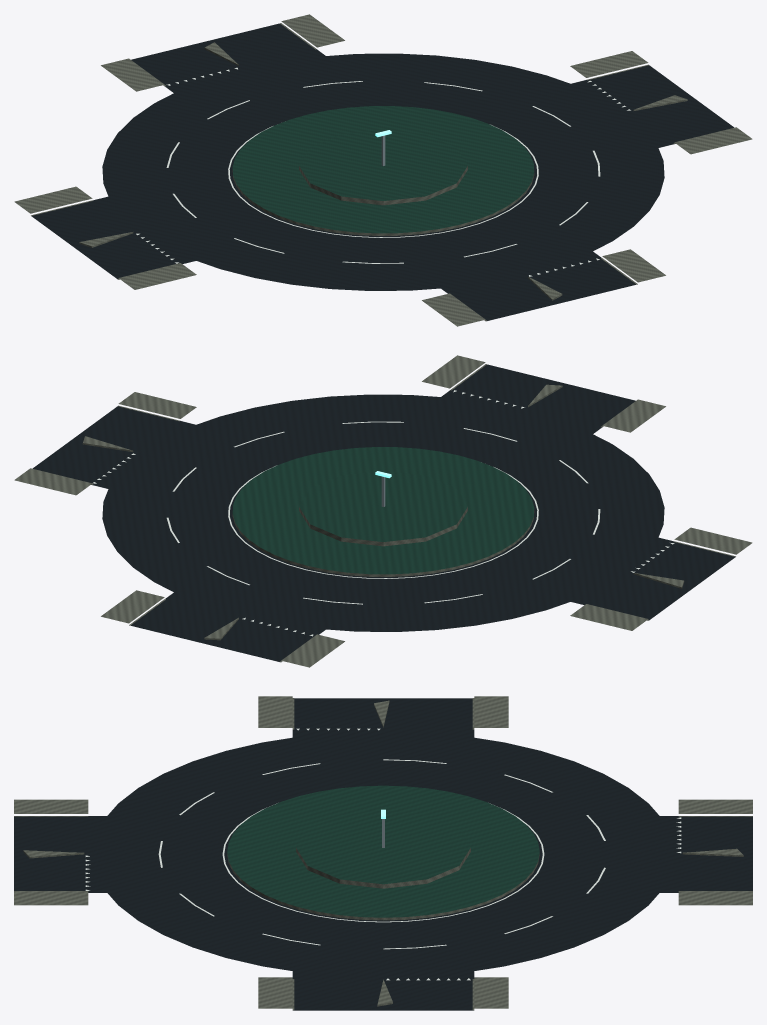
File: junc_roundabout_2lane_LOD1.glb
3 views of the same model, one above another, from view 1: azimuth 30°, elevation 25°; view 2: azimuth 150°, elevation 25°; view 3: azimuth 270°, elevation 25° (orthographic). The views are drawn at different scales.
Parts seen in each view (by area): view 1: junc_roundabout_2lane__surface.001, junc_roundabout_2lane__center_island.001, junc_roundabout_2lane__entry_ports.001, junc_roundabout_2lane__island_lighting.001, junc_roundabout_2lane__entry_sidewalks.001, junc_roundabout_2lane__splitter_islands.001; view 2: junc_roundabout_2lane__surface.001, junc_roundabout_2lane__center_island.001, junc_roundabout_2lane__entry_ports.001, junc_roundabout_2lane__island_lighting.001, junc_roundabout_2lane__entry_sidewalks.001, junc_roundabout_2lane__splitter_islands.001; view 3: junc_roundabout_2lane__surface.001, junc_roundabout_2lane__center_island.001, junc_roundabout_2lane__entry_ports.001, junc_roundabout_2lane__island_lighting.001, junc_roundabout_2lane__entry_sidewalks.001, junc_roundabout_2lane__splitter_islands.001.
Part boxes in pixels (box(x1,y1,x2,y2)): junc_roundabout_2lane__surface.001: box(102, 53, 664, 290); junc_roundabout_2lane__center_island.001: box(166, 81, 600, 263); junc_roundabout_2lane__entry_ports.001: box(31, 23, 733, 320); junc_roundabout_2lane__island_lighting.001: box(299, 129, 467, 205); junc_roundabout_2lane__entry_sidewalks.001: box(14, 14, 752, 326); junc_roundabout_2lane__splitter_islands.001: box(79, 42, 687, 300); junc_roundabout_2lane__surface.001: box(102, 394, 664, 631); junc_roundabout_2lane__center_island.001: box(166, 421, 600, 604); junc_roundabout_2lane__entry_ports.001: box(33, 364, 735, 661); junc_roundabout_2lane__island_lighting.001: box(299, 470, 467, 546); junc_roundabout_2lane__entry_sidewalks.001: box(14, 355, 752, 667); junc_roundabout_2lane__splitter_islands.001: box(82, 384, 684, 640); junc_roundabout_2lane__surface.001: box(92, 731, 674, 977); junc_roundabout_2lane__center_island.001: box(158, 759, 605, 949); junc_roundabout_2lane__entry_ports.001: box(14, 698, 752, 1010); junc_roundabout_2lane__island_lighting.001: box(296, 809, 470, 888); junc_roundabout_2lane__entry_sidewalks.001: box(14, 696, 752, 1010); junc_roundabout_2lane__splitter_islands.001: box(23, 700, 743, 1006).
Size of the model in its own units: 52 by 3.2 by 52.
7 materials, 4 textured.
